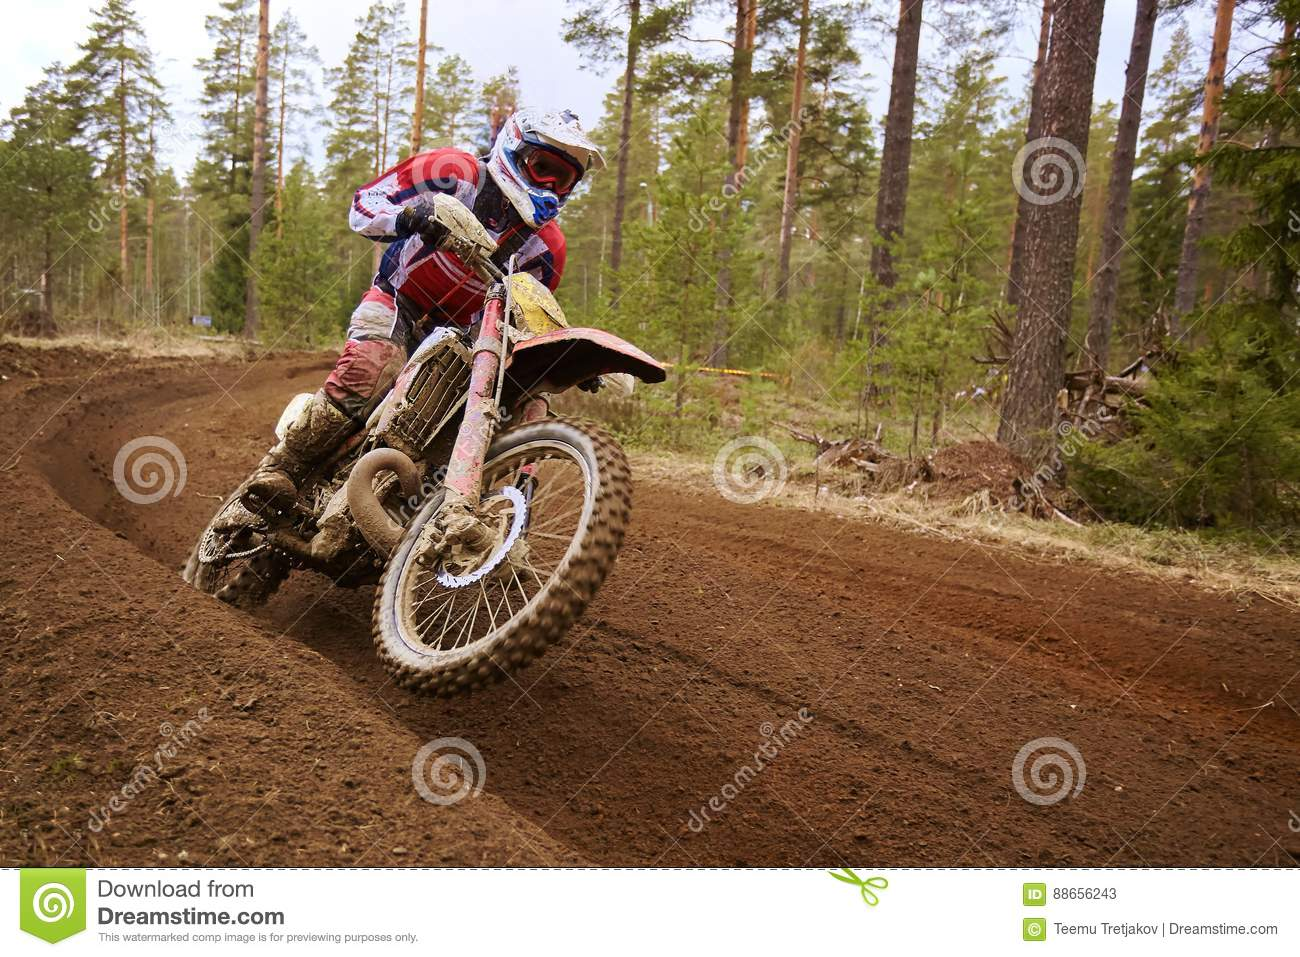helmet: (488, 96, 611, 248)
